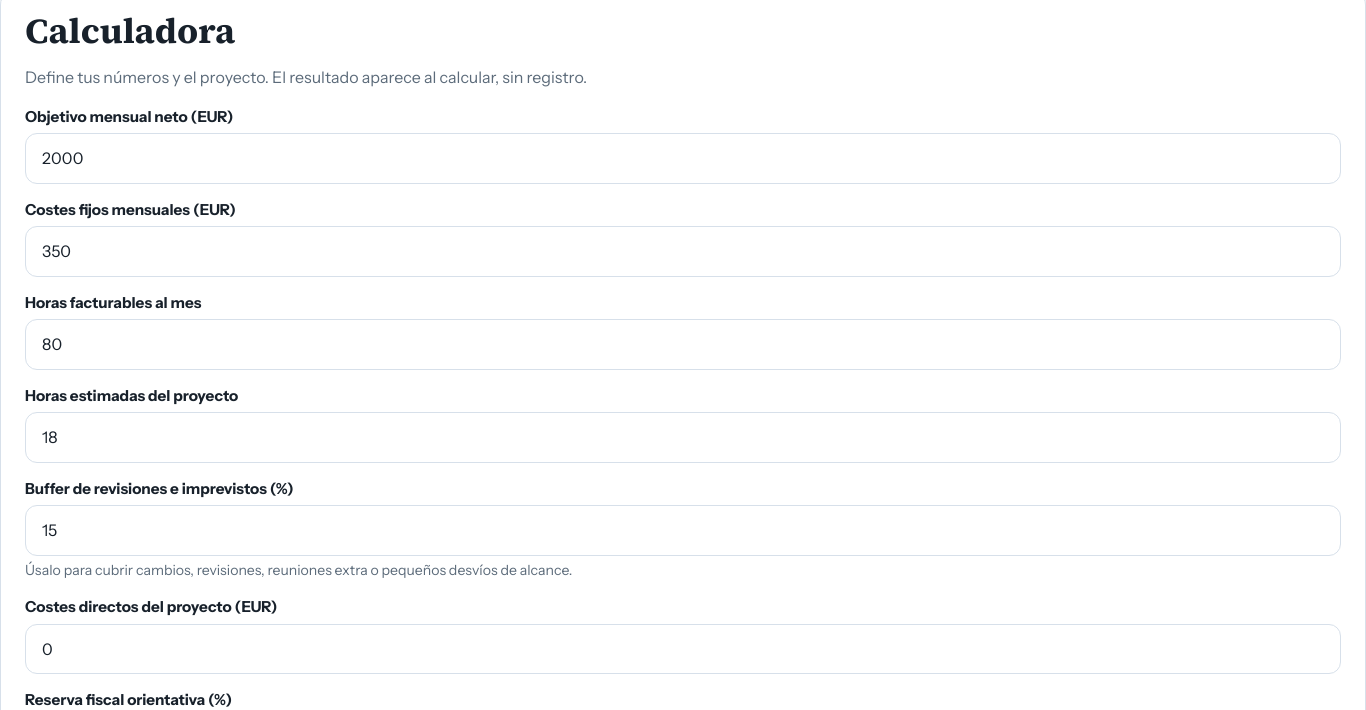
Test: CalculatorForm › shows an error and blocks results when billable hours are 0
Replace the text in the number field labelled "Horas facturables al mes" with "0" at (683, 344), box [25, 319, 1341, 370]
(page scrolled)
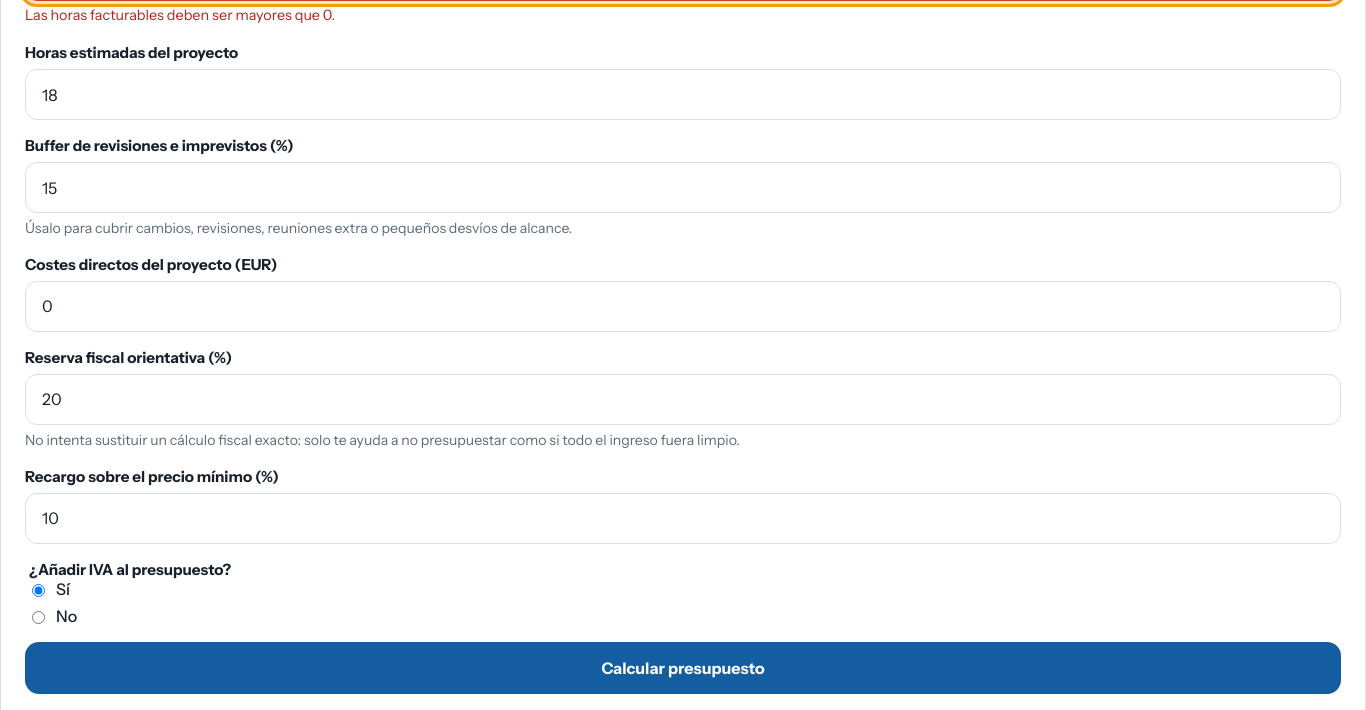
Click the button "Calcular presupuesto" at (683, 668), box [25, 642, 1341, 694]
(page scrolled)
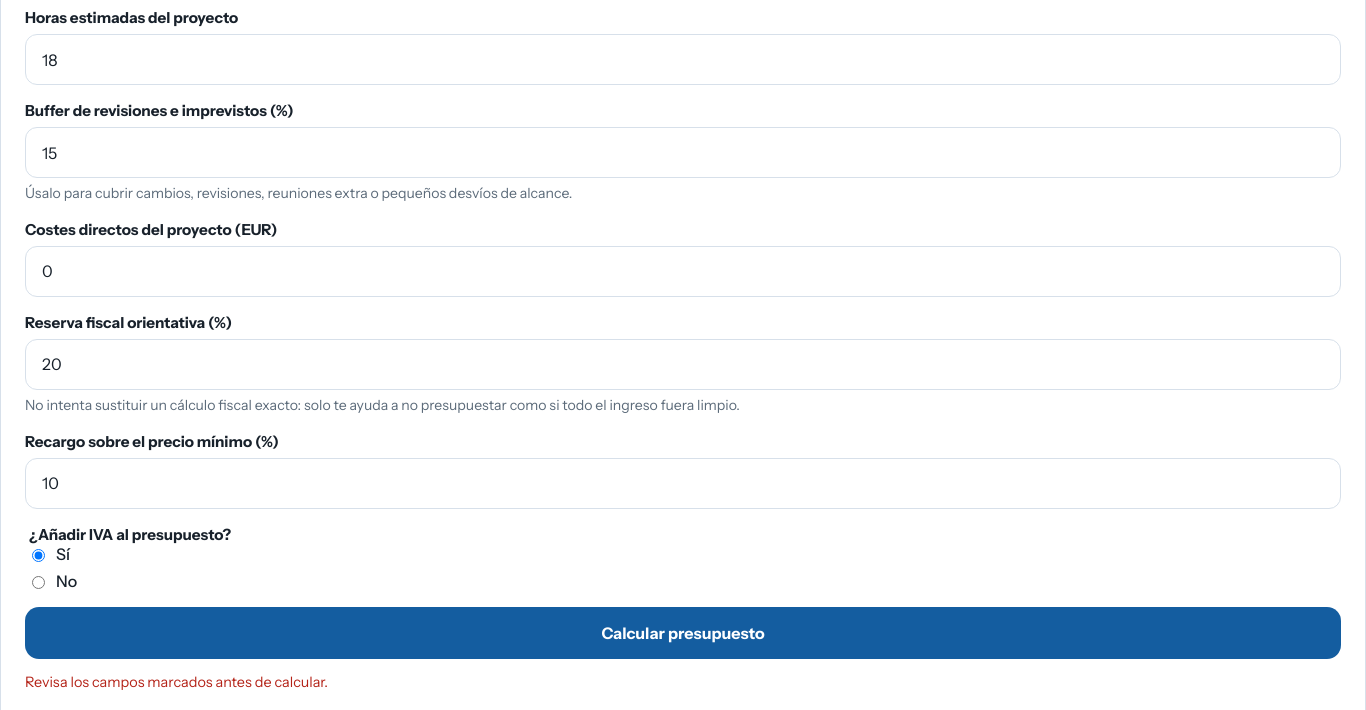
Result: the text "Revisa los campos marcados antes de calcular." is shown at [25, 674, 328, 692]
